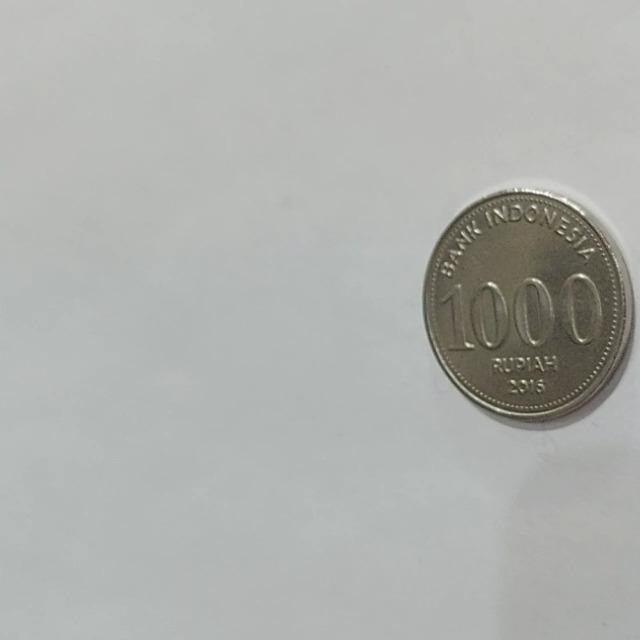Rp100: (420, 184, 635, 425)
